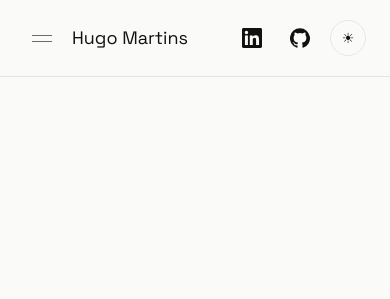
Scenario: Header menu (small screens) › closes on Escape
Click the button named "menu".
click(42, 38)  # box [20,16,64,60]
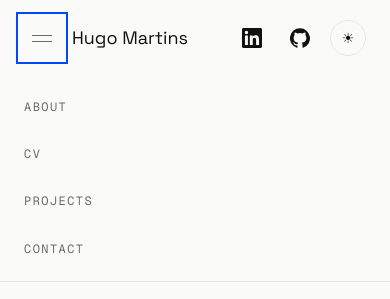
Result: the navigation bar named "menu" is shown
Press Escape
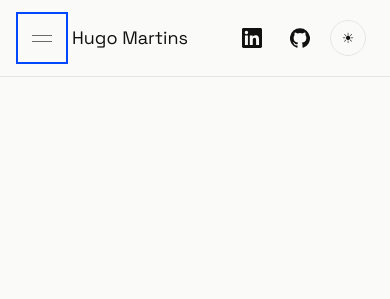
Result: the navigation bar "About CV Projects Contact" is gone
